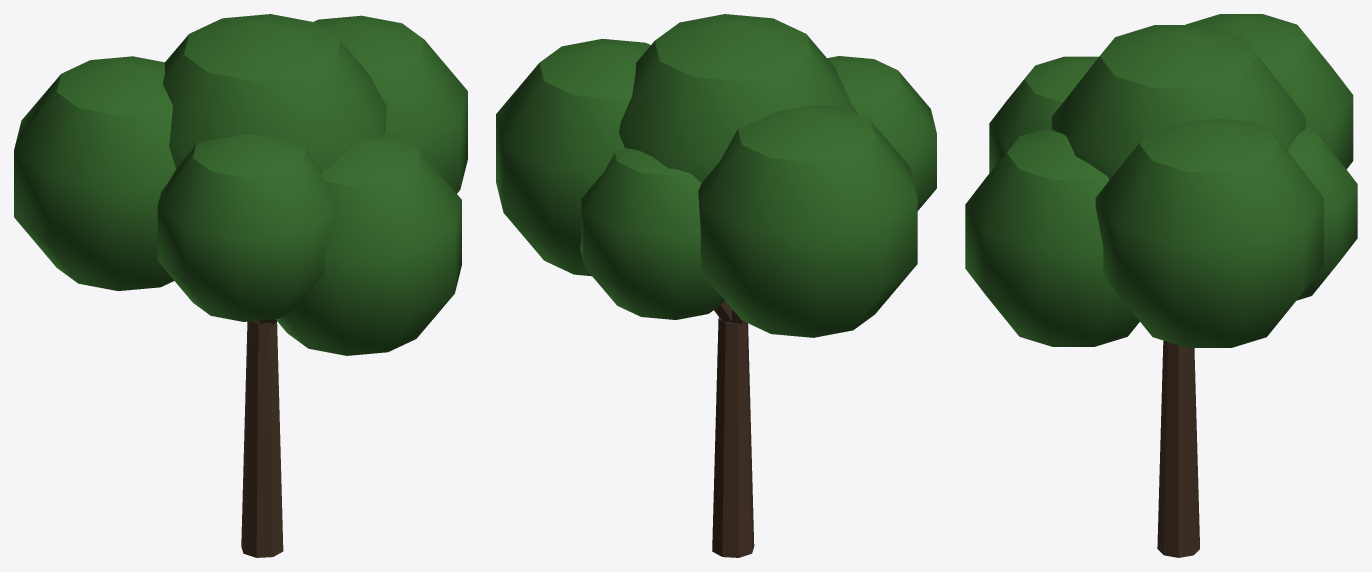
The model's file is landscape.tree.oak_medium.glb.
3 views of the same model, side by side, from view 1: azimuth 30°, elevation 25°; view 2: azimuth 150°, elevation 25°; view 3: azimuth 270°, elevation 25° (orthographic).
Parts seen in each view (by area): view 1: main__foliage, main__bark; view 2: main__foliage, main__bark; view 3: main__foliage, main__bark.
Boxes of the visible parts, x1,y1,x2,y2 form: main__foliage: [14, 14, 467, 355]; main__bark: [241, 319, 283, 557]; main__foliage: [496, 14, 936, 337]; main__bark: [712, 301, 754, 557]; main__foliage: [965, 14, 1357, 347]; main__bark: [1157, 340, 1199, 557].
Bounding box in the file's own units: 7.36 × 9.18 × 6.34.
